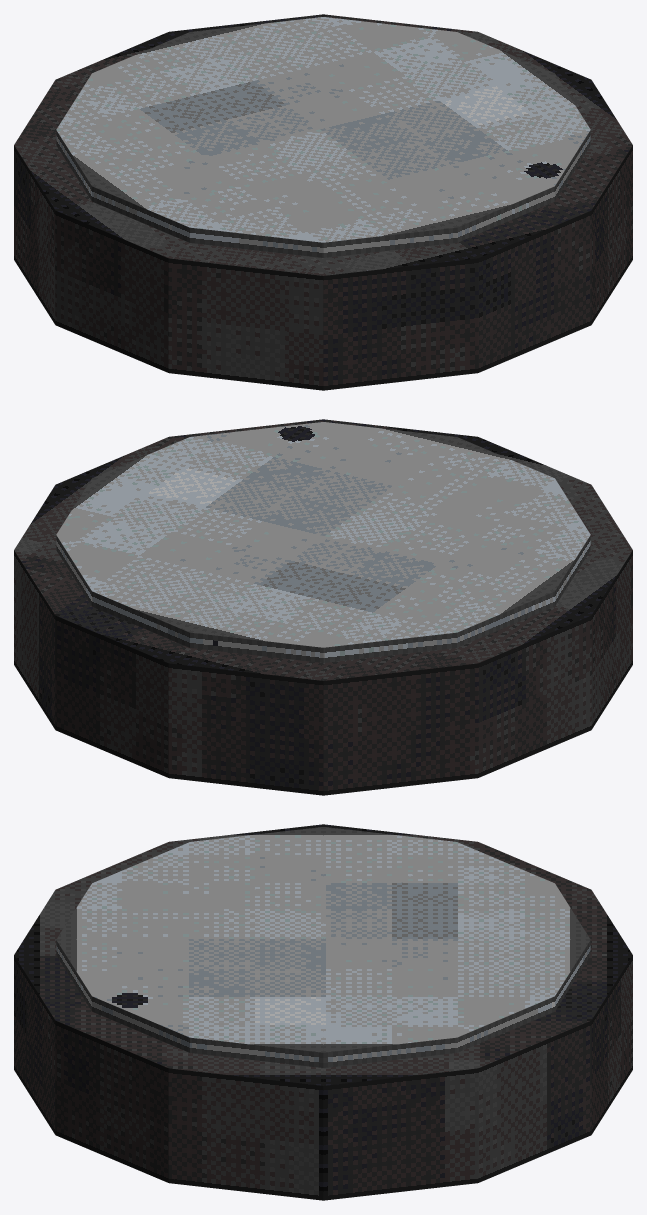
Rendered from SM_Clock_Wall_01.glb.
3 renders of one model, top to bottom at view 1: azimuth 30°, elevation 25°; view 2: azimuth 150°, elevation 25°; view 3: azimuth 270°, elevation 25°, orthographic.
Parts seen in each view (by area): view 1: SM_Clock_Wall_01; view 2: SM_Clock_Wall_01; view 3: SM_Clock_Wall_01.
Part boxes in pixels (bbox=[...]): SM_Clock_Wall_01: bbox=[14, 14, 632, 390]; SM_Clock_Wall_01: bbox=[14, 419, 632, 795]; SM_Clock_Wall_01: bbox=[14, 824, 632, 1200].
Size of the model in its own units: 0.22 by 0.051 by 0.22.
Materials: 1 (1 with a texture image).
